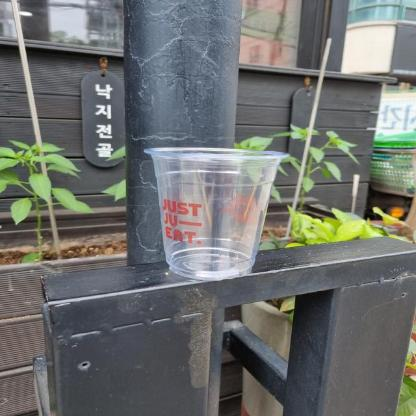Plastic Cup: (139, 142, 294, 284)
